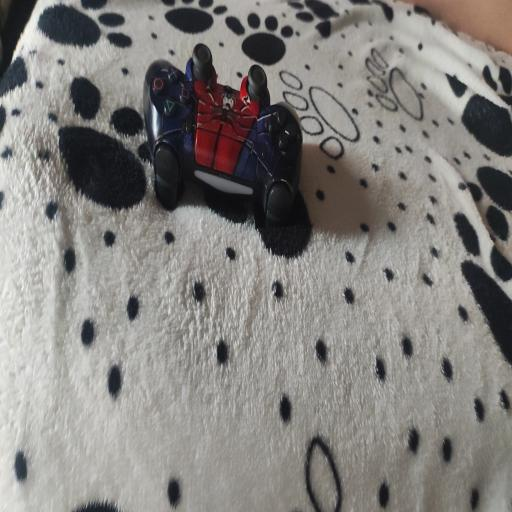ControlPlay4: (143, 44, 303, 223)
